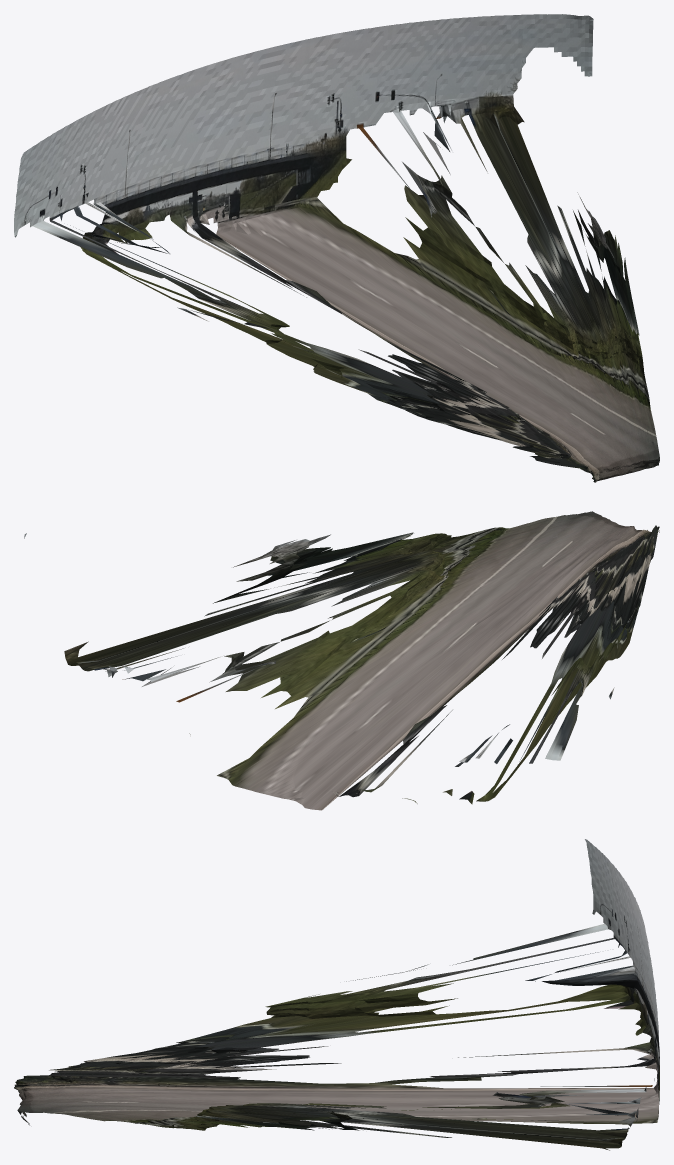
3 views of the same model, one above another, from view 1: azimuth 30°, elevation 25°; view 2: azimuth 150°, elevation 25°; view 3: azimuth 270°, elevation 25° (orthographic). The views are drawn at different scales.
Parts seen in each view (by area): view 1: defaultobject; view 2: defaultobject; view 3: defaultobject.
Boxes of the visible parts, x1,y1,x2,y2 form: defaultobject: (14, 14, 659, 482); defaultobject: (24, 511, 659, 810); defaultobject: (14, 839, 659, 1150).
Size of the model in its own units: 41.02 by 12.09 by 44.52.
Materials: 1 (1 with a texture image).
